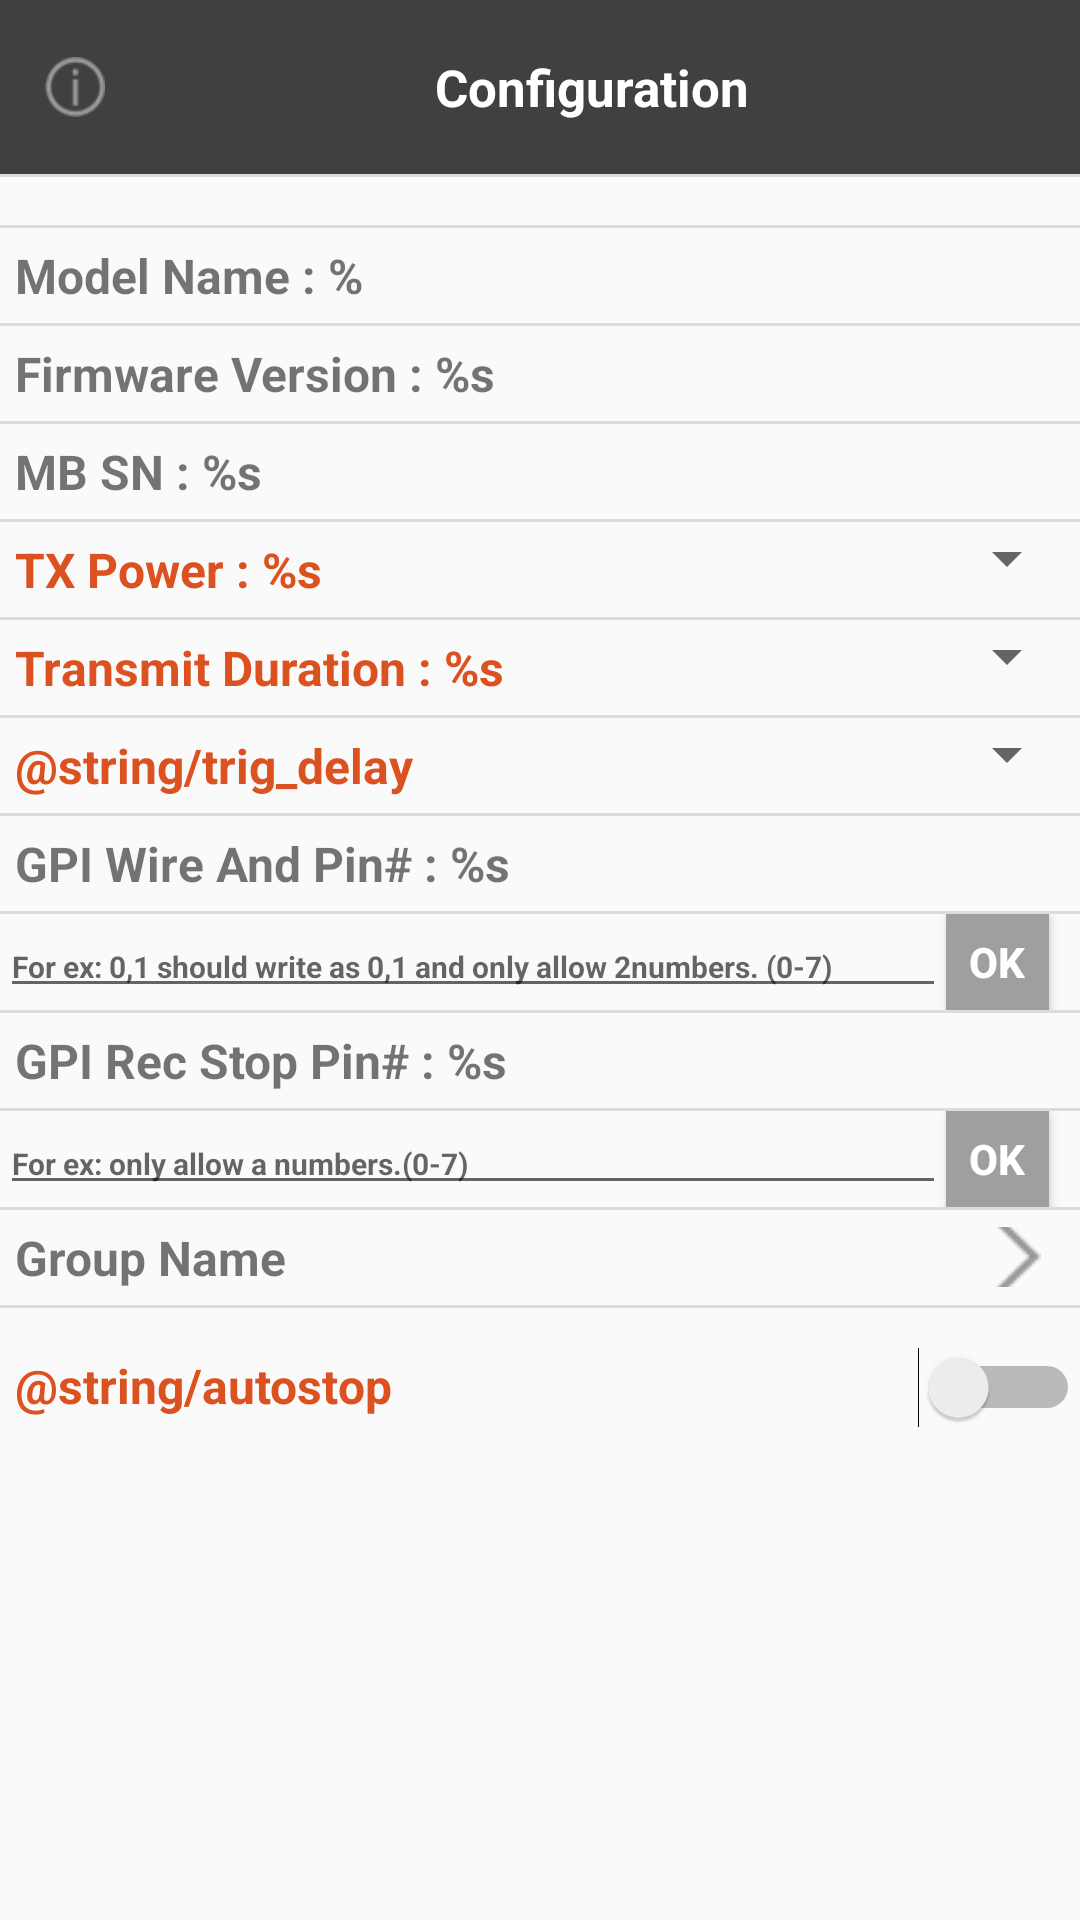

Icons on this 1080w x 1920h Android screen, each with the point to tap as [x,y]:
about click: [75,87]
